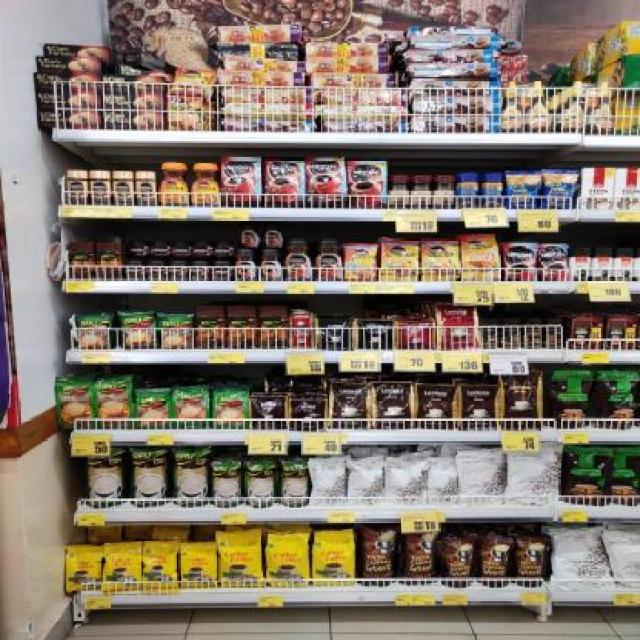Coffee: (265, 160, 304, 208), (221, 157, 259, 206), (308, 159, 346, 206), (349, 160, 386, 208), (461, 235, 499, 280), (421, 238, 459, 280), (381, 240, 417, 280), (167, 93, 202, 130), (158, 162, 188, 205), (191, 162, 218, 206), (344, 243, 376, 280), (503, 243, 535, 280), (314, 240, 343, 280), (285, 240, 312, 280), (541, 243, 568, 280), (66, 170, 88, 204), (259, 249, 281, 280), (136, 172, 156, 206), (92, 170, 110, 204), (114, 170, 132, 204), (237, 248, 255, 280), (238, 222, 260, 248), (262, 222, 282, 248), (125, 238, 148, 258), (123, 260, 146, 278), (169, 260, 188, 280), (152, 238, 171, 257), (173, 239, 192, 258), (212, 261, 232, 279), (195, 240, 214, 258), (216, 240, 235, 258), (148, 260, 166, 278), (191, 261, 209, 279)
